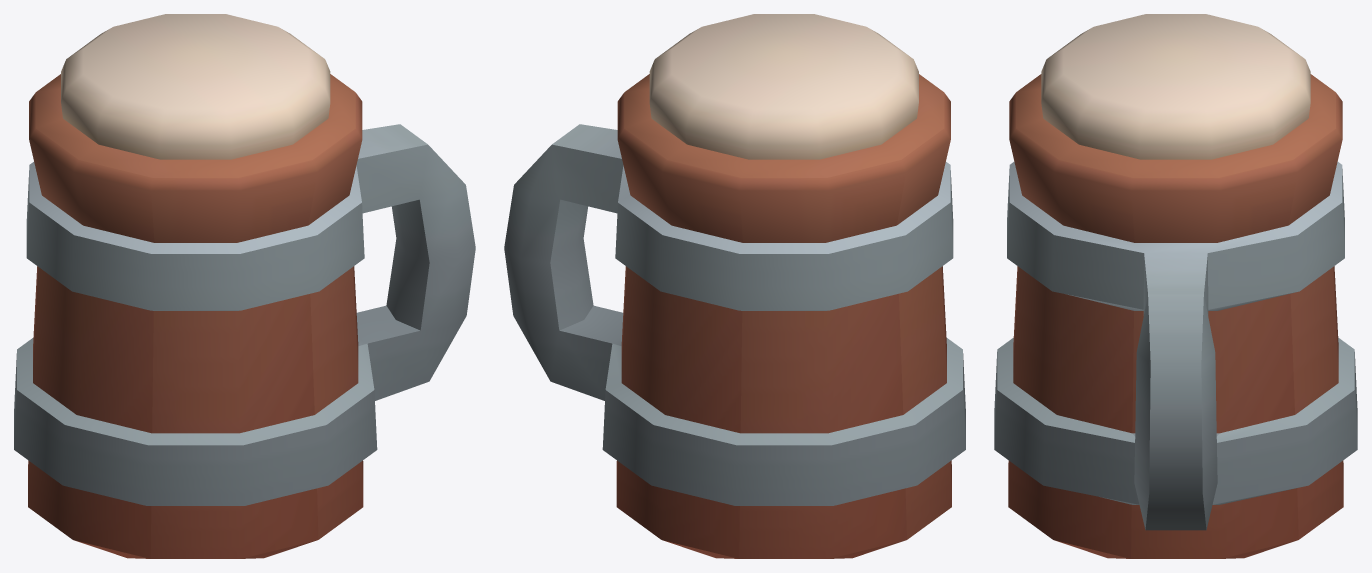
Rendered from mug_full.glb.
The picture shows the model from 3 angles, left to right: view 1: azimuth 30°, elevation 25°; view 2: azimuth 150°, elevation 25°; view 3: azimuth 270°, elevation 25°; orthographic projection.
Visible parts, largest first — view 1: mug_full; view 2: mug_full; view 3: mug_full.
Boxes of the visible parts, bbox=[...] form: mug_full: bbox=[14, 14, 475, 558]; mug_full: bbox=[504, 14, 965, 558]; mug_full: bbox=[994, 14, 1357, 558].
Size of the model in its own units: 0.5342 by 0.5484 by 0.3959.
Materials: 1 (1 with a texture image).
